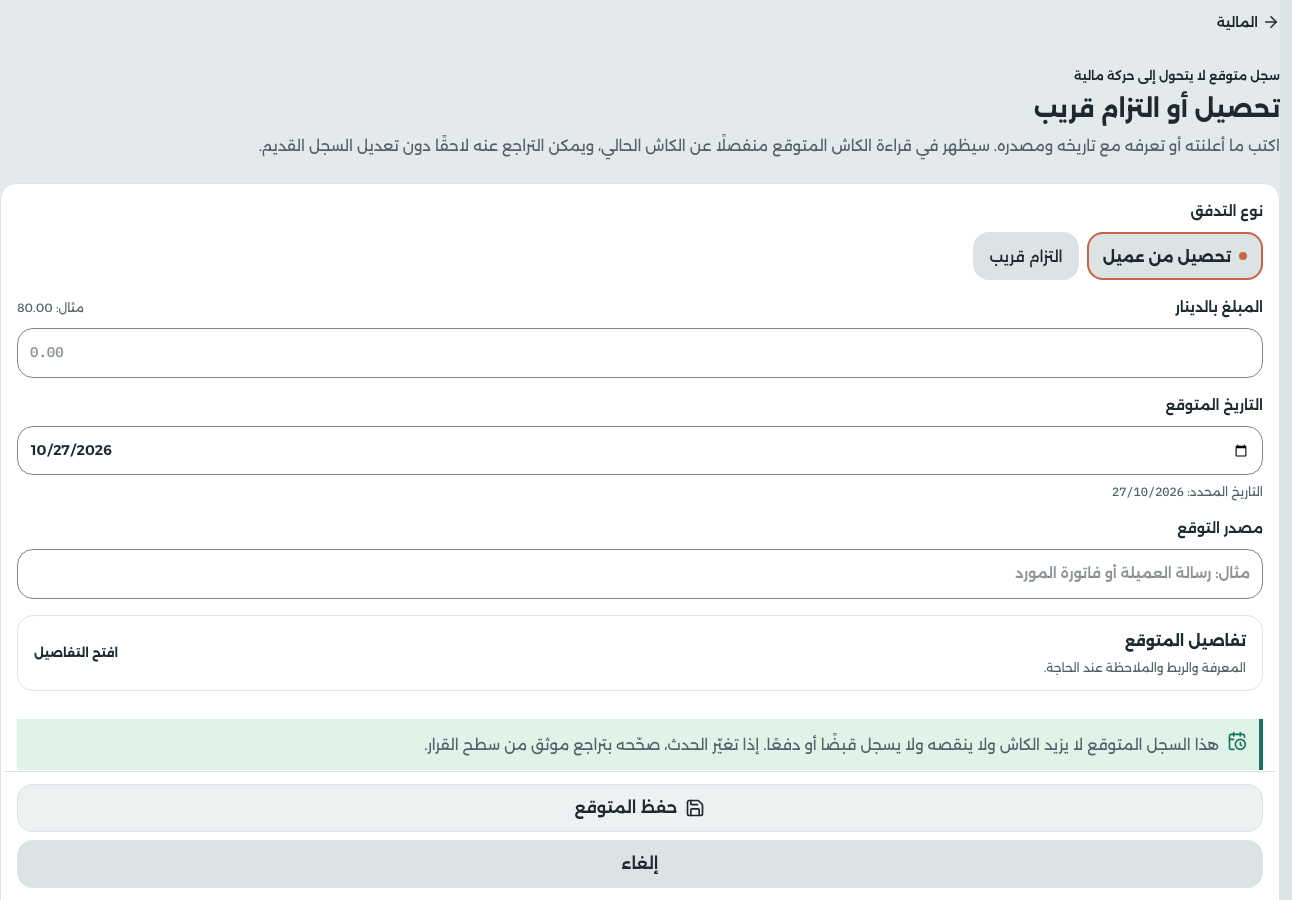
Scenario: G5DeclarationEditor — direct page-boundary behavior (R9-W3 + R9 continuation) › requires the context note and auto-opens the details layer to expose it
Type "12" into the field named "مبلغ السجل المتوقع" at (640, 353), box top-left (17, 328), bottom-right (1263, 378)
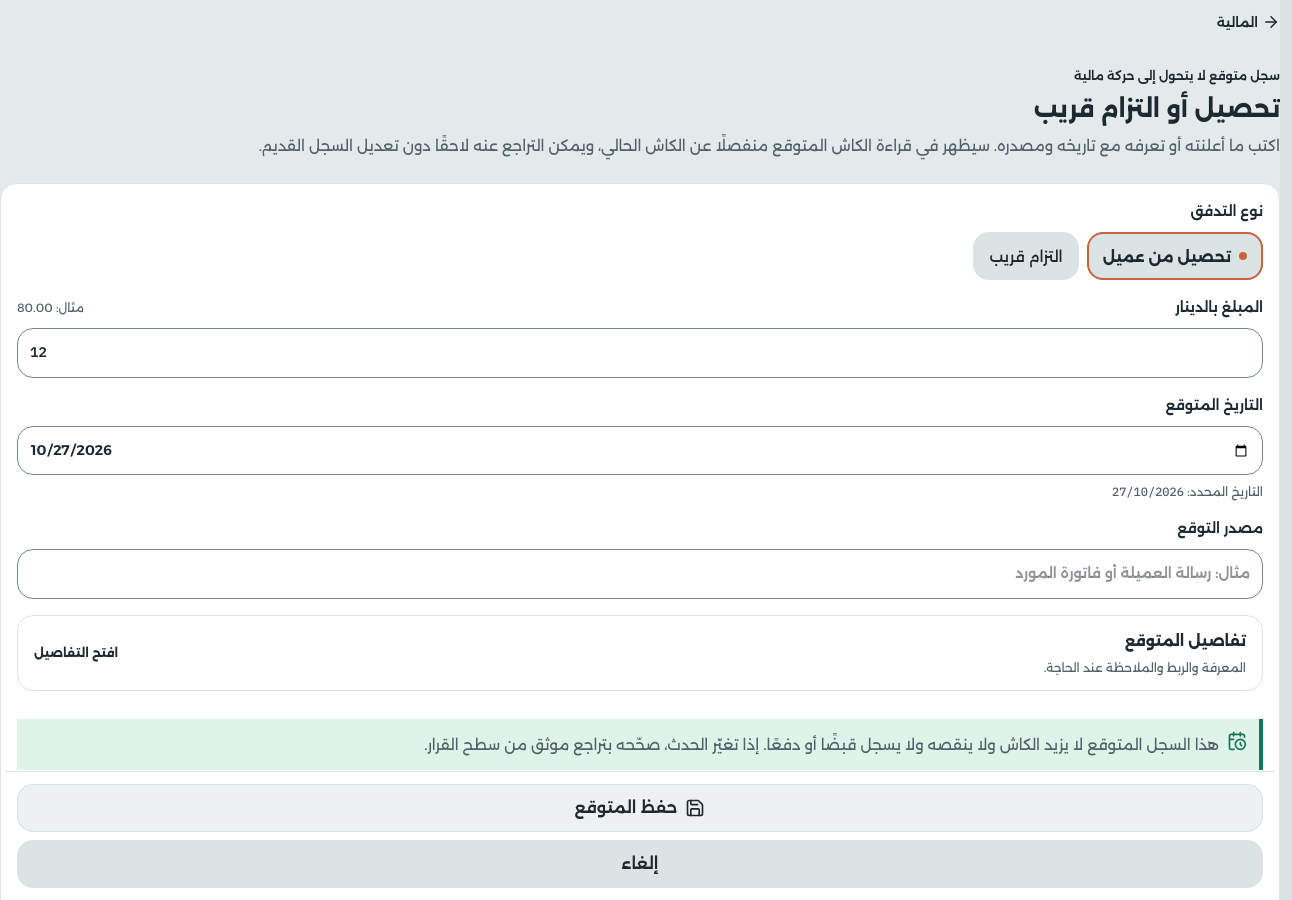
Click the button "حفظ المتوقع" at (640, 808), box top-left (17, 784), bottom-right (1263, 832)
(page scrolled)
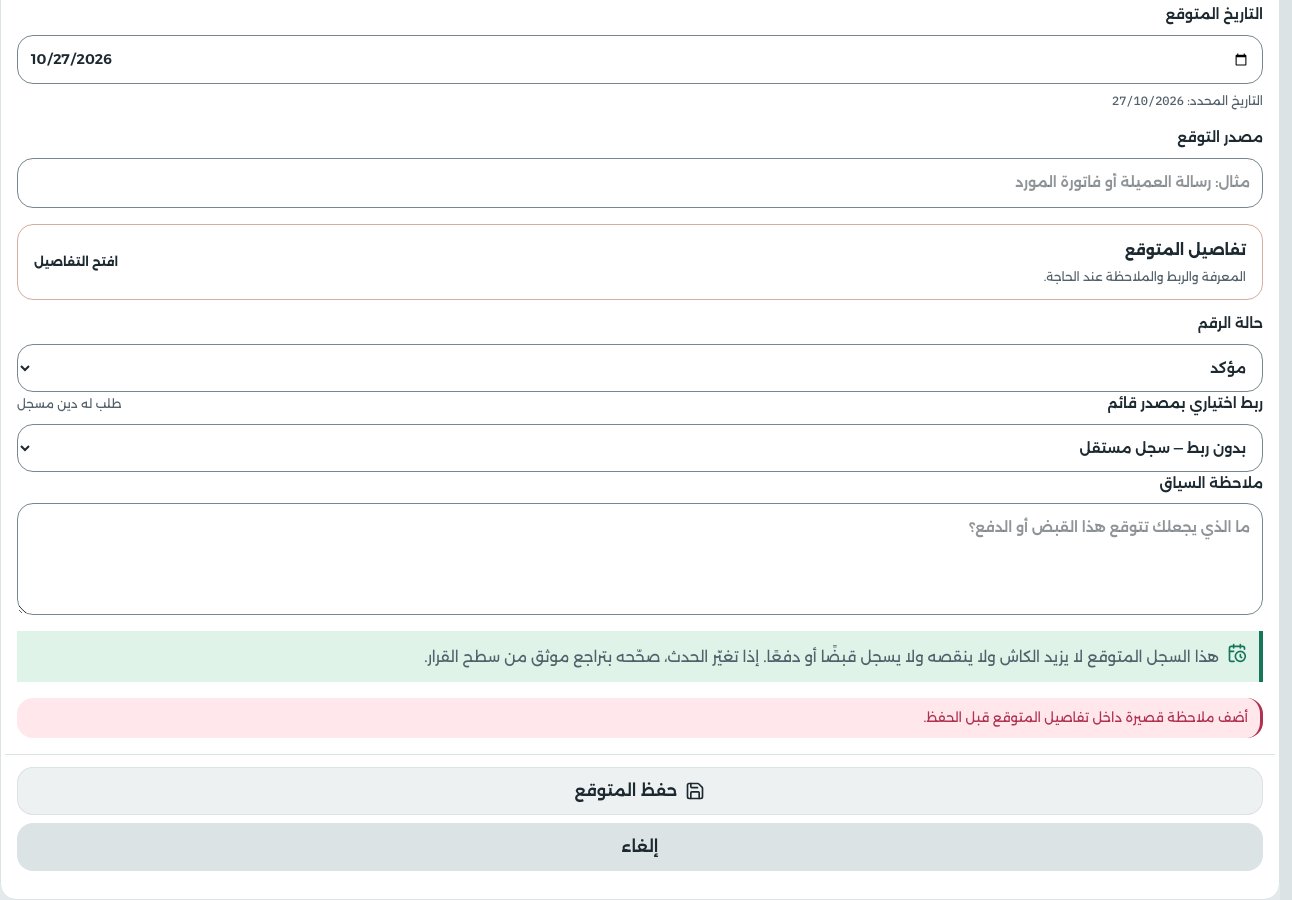
Result: the text "أضف ملاحظة قصيرة داخل تفاصيل المتوقع قبل الحفظ." is shown at top-left (17, 698), bottom-right (1263, 738)
